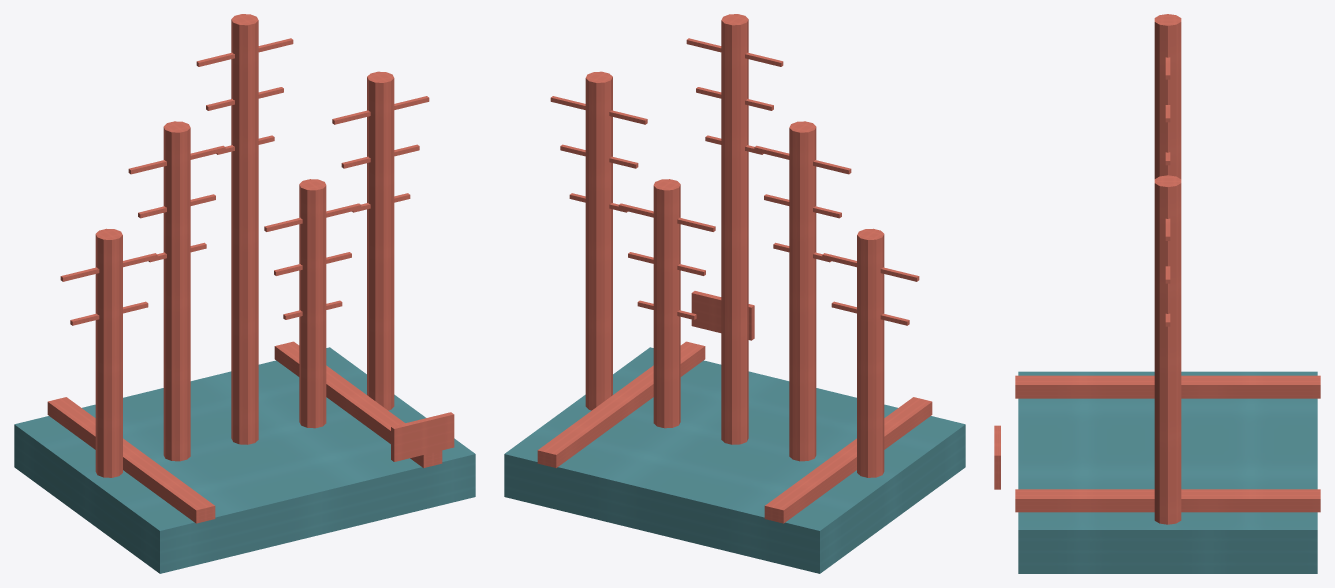
The model's file is atlas100-s079-a01.lod1.glb.
3 renders of one model, left to right at view 1: azimuth 30°, elevation 25°; view 2: azimuth 150°, elevation 25°; view 3: azimuth 270°, elevation 25°, orthographic. The views are drawn at different scales.
Visible parts, largest first — view 1: atlas100-s079-a01:part-000, atlas100-s079-a01:part-013, atlas100-s079-a01:part-008, atlas100-s079-a01:part-023, atlas100-s079-a01:part-003, atlas100-s079-a01:part-018, atlas100-s079-a01:part-001, atlas100-s079-a01:part-002, atlas100-s079-a01:part-028; view 2: atlas100-s079-a01:part-000, atlas100-s079-a01:part-013, atlas100-s079-a01:part-008, atlas100-s079-a01:part-023, atlas100-s079-a01:part-003, atlas100-s079-a01:part-018, atlas100-s079-a01:part-002, atlas100-s079-a01:part-001, atlas100-s079-a01:part-028; view 3: atlas100-s079-a01:part-000, atlas100-s079-a01:part-023, atlas100-s079-a01:part-001, atlas100-s079-a01:part-002, atlas100-s079-a01:part-013, atlas100-s079-a01:part-028.
Boxes of the visible parts, <box> form: atlas100-s079-a01:part-000: <box>14,347,475,573</box>; atlas100-s079-a01:part-013: <box>231,14,258,444</box>; atlas100-s079-a01:part-008: <box>163,121,190,461</box>; atlas100-s079-a01:part-023: <box>367,71,394,410</box>; atlas100-s079-a01:part-003: <box>95,228,122,477</box>; atlas100-s079-a01:part-018: <box>299,179,326,428</box>; atlas100-s079-a01:part-001: <box>47,397,215,523</box>; atlas100-s079-a01:part-002: <box>274,341,442,467</box>; atlas100-s079-a01:part-028: <box>391,412,454,461</box>; atlas100-s079-a01:part-000: <box>504,347,965,573</box>; atlas100-s079-a01:part-013: <box>721,14,748,444</box>; atlas100-s079-a01:part-008: <box>789,121,816,461</box>; atlas100-s079-a01:part-023: <box>585,71,612,410</box>; atlas100-s079-a01:part-003: <box>857,228,884,477</box>; atlas100-s079-a01:part-018: <box>653,179,680,428</box>; atlas100-s079-a01:part-002: <box>537,341,705,467</box>; atlas100-s079-a01:part-001: <box>764,397,932,523</box>; atlas100-s079-a01:part-028: <box>691,291,754,340</box>; atlas100-s079-a01:part-000: <box>1018,371,1317,573</box>; atlas100-s079-a01:part-023: <box>1154,175,1181,524</box>; atlas100-s079-a01:part-001: <box>1015,375,1320,398</box>; atlas100-s079-a01:part-002: <box>1015,489,1320,512</box>; atlas100-s079-a01:part-013: <box>1154,14,1181,178</box>; atlas100-s079-a01:part-028: <box>994,425,1000,489</box>.
Size of the model in its own units: 2.32 by 2.8 by 1.74.
2 materials, 2 textured.
